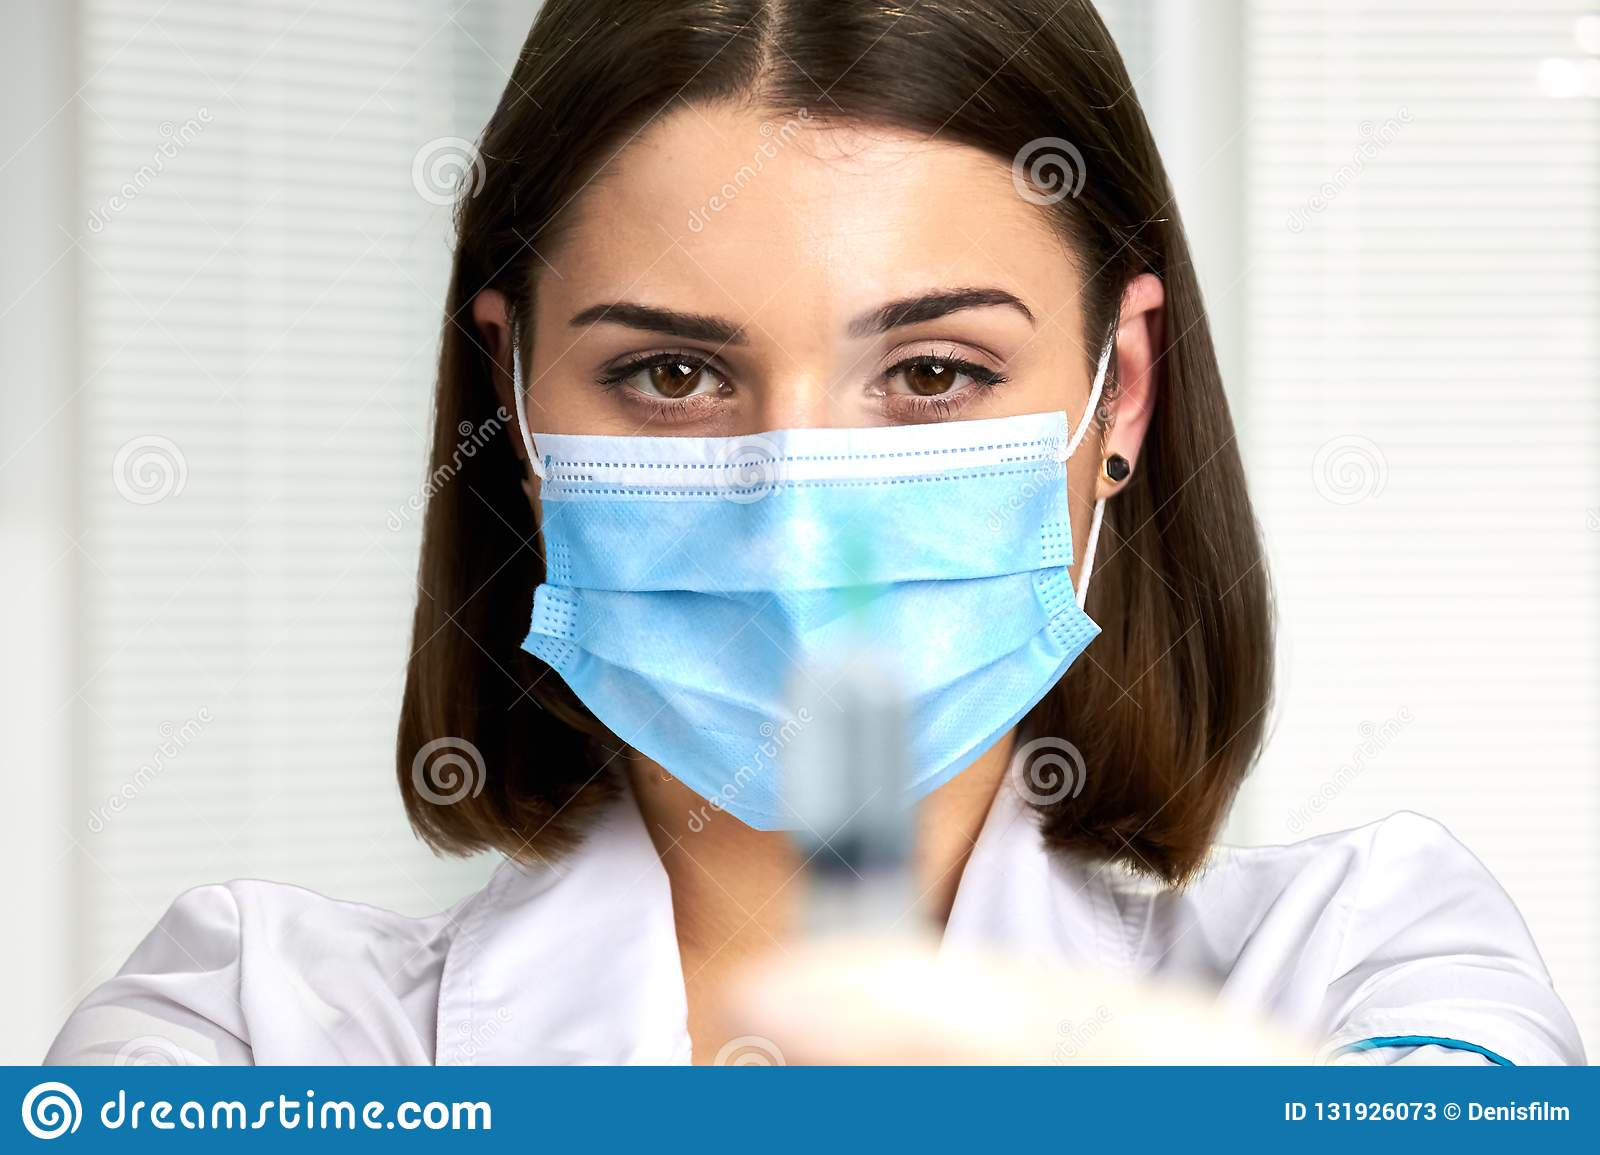mask: (507, 419, 1107, 827)
